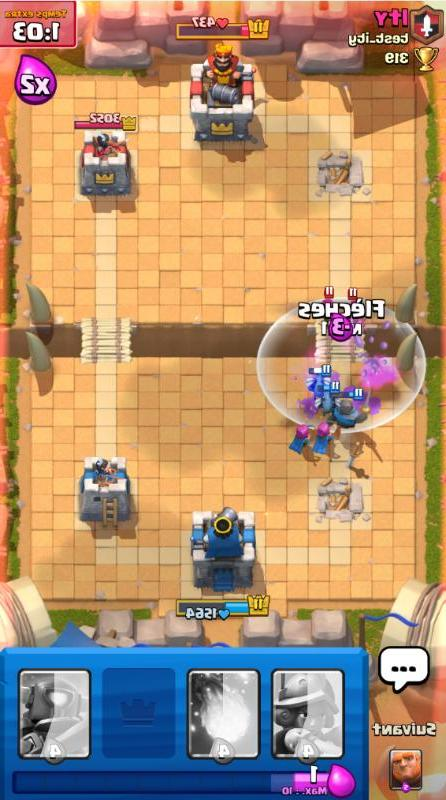archere: (311, 418, 340, 455), (288, 419, 317, 455), (317, 286, 336, 326)
chevalier: (324, 389, 370, 429)
gargouille: (314, 382, 340, 416), (305, 366, 331, 400)
